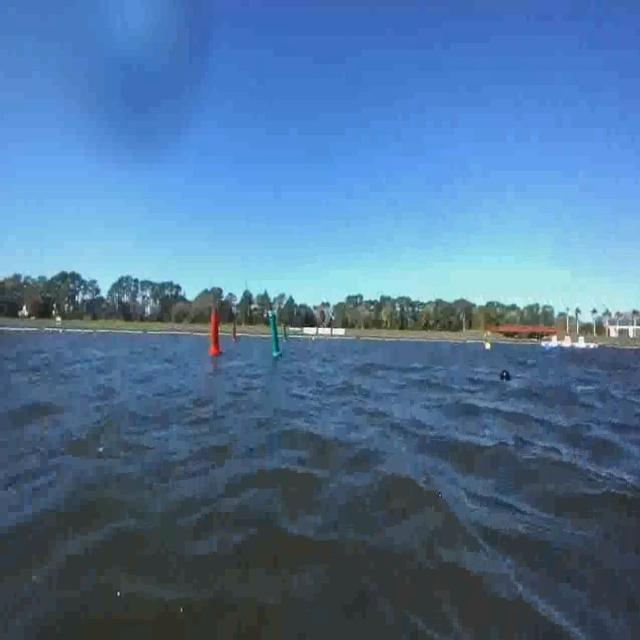black-buoy: (499, 366, 511, 382)
green-column-buoy: (268, 312, 284, 360)
red-column-buoy: (208, 308, 223, 356), (233, 324, 240, 342)
yellow-buoy: (485, 341, 493, 354)
